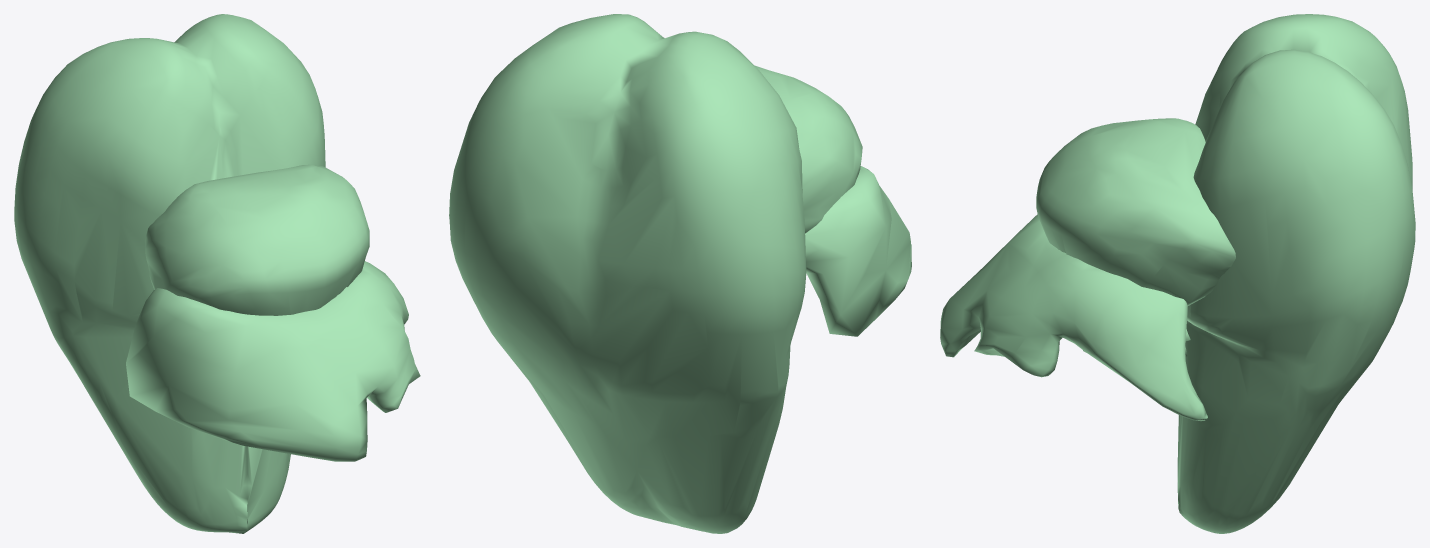
The model's file is Mane_04.fbx.
3 renders of one model, left to right at view 1: azimuth 30°, elevation 25°; view 2: azimuth 150°, elevation 25°; view 3: azimuth 270°, elevation 25°, orthographic. The views are drawn at different scales.
Parts seen in each view (by area): view 1: Mane_04; view 2: Mane_04; view 3: Mane_04.
Part boxes in pixels (box(x1,y1,x2,y2)): Mane_04: box(14, 14, 420, 533); Mane_04: box(449, 14, 911, 533); Mane_04: box(940, 14, 1415, 533).
Bounding box in the file's own units: 163 × 243 × 218.
